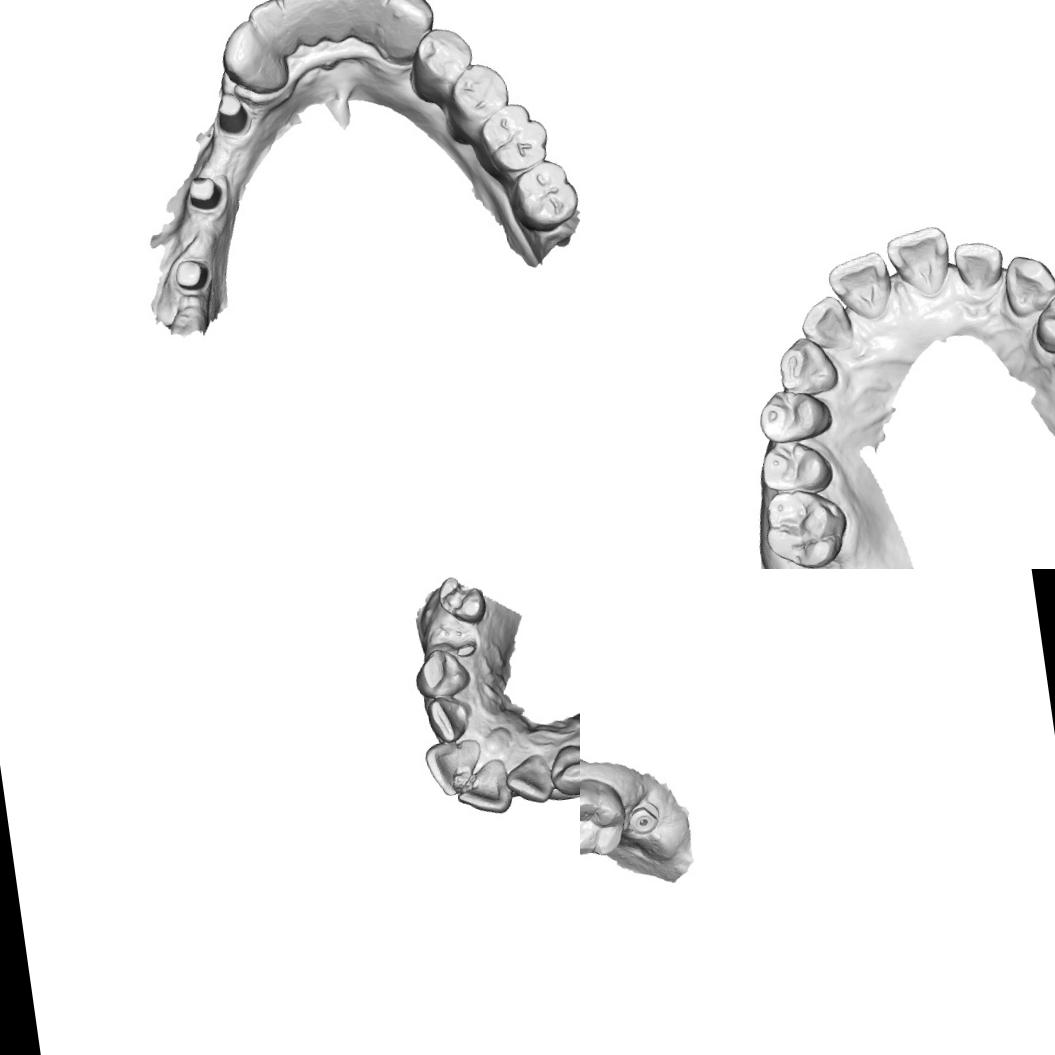abutment: (208, 88, 255, 140), (182, 168, 229, 216), (167, 251, 215, 297)
canine: (217, 13, 293, 101), (772, 330, 842, 401), (374, 0, 441, 64), (998, 249, 1055, 322), (410, 644, 472, 702), (545, 739, 580, 798)
implant: (624, 798, 663, 838)
incisor: (822, 248, 898, 328), (882, 222, 956, 304), (421, 736, 487, 800), (796, 290, 858, 356), (451, 757, 515, 820), (948, 236, 1008, 298), (242, 0, 298, 64), (502, 752, 556, 809), (424, 692, 476, 745), (344, 0, 399, 45), (277, 0, 327, 49), (314, 0, 362, 46)
molar: (757, 481, 855, 569), (469, 97, 554, 183), (502, 154, 580, 237), (580, 773, 631, 862)
premolar: (439, 58, 516, 144), (402, 20, 480, 104), (754, 432, 839, 498), (753, 384, 834, 448), (434, 571, 489, 628), (1028, 283, 1055, 358)
